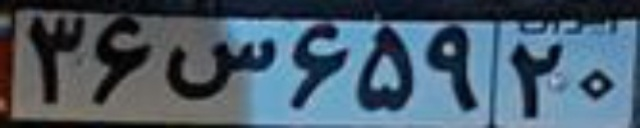0: (574, 67, 617, 102)
2: (506, 40, 564, 117)
3: (27, 16, 86, 106)
5: (356, 25, 416, 110)
6: (92, 15, 152, 107), (290, 22, 347, 109)
9: (425, 24, 481, 112)
sin: (163, 36, 277, 101)
